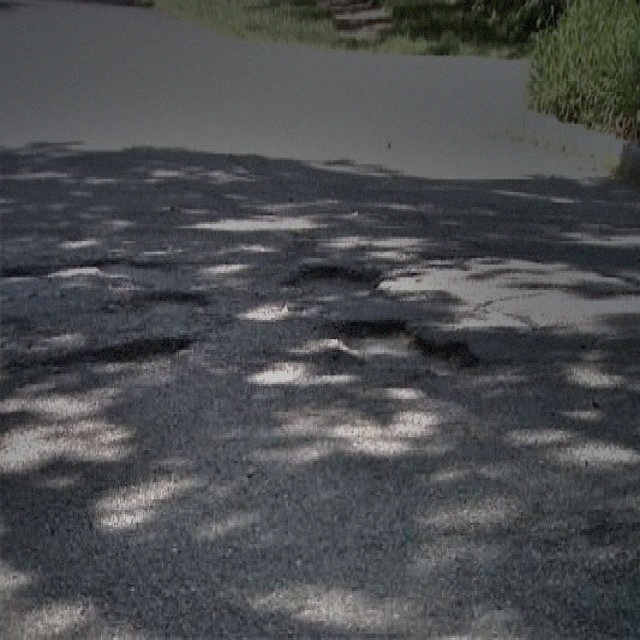pothole: (332, 312, 481, 376), (92, 331, 194, 369), (282, 260, 386, 290)
